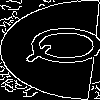Q: (25, 25, 100, 67)
